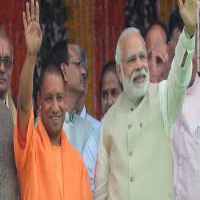ring: (24, 1, 32, 25)
